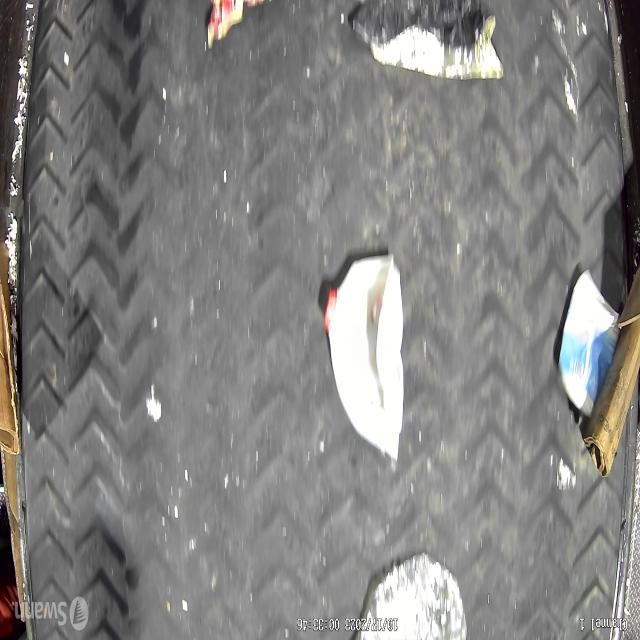milk_jug: (322, 261, 404, 457)
non_white_jug: (559, 271, 623, 418)
